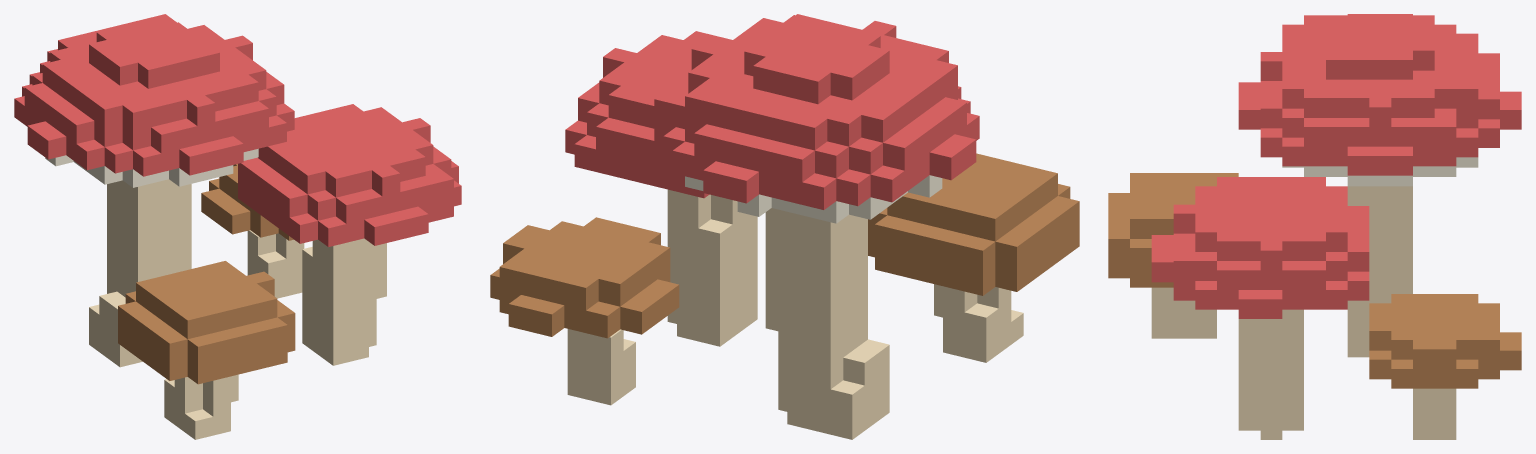
File: woodland_toadstools.glb
3 views of the same model, side by side, from view 1: azimuth 30°, elevation 25°; view 2: azimuth 150°, elevation 25°; view 3: azimuth 270°, elevation 25° (orthographic). The views are drawn at different scales.
Size of the model in its own units: 0.8333 by 0.6667 by 0.7917.
